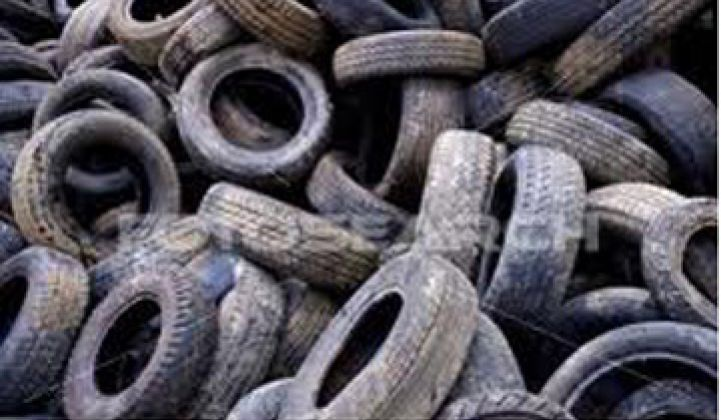tire: (277, 251, 480, 420), (7, 106, 184, 269), (187, 174, 388, 297), (168, 40, 337, 185), (61, 263, 211, 420), (475, 148, 586, 355), (27, 69, 174, 206), (590, 55, 721, 196), (544, 1, 714, 108), (540, 318, 717, 420), (504, 97, 673, 199), (180, 256, 284, 420), (413, 122, 500, 307), (345, 79, 469, 208), (1, 244, 90, 413), (484, 1, 627, 75), (324, 29, 488, 80)
